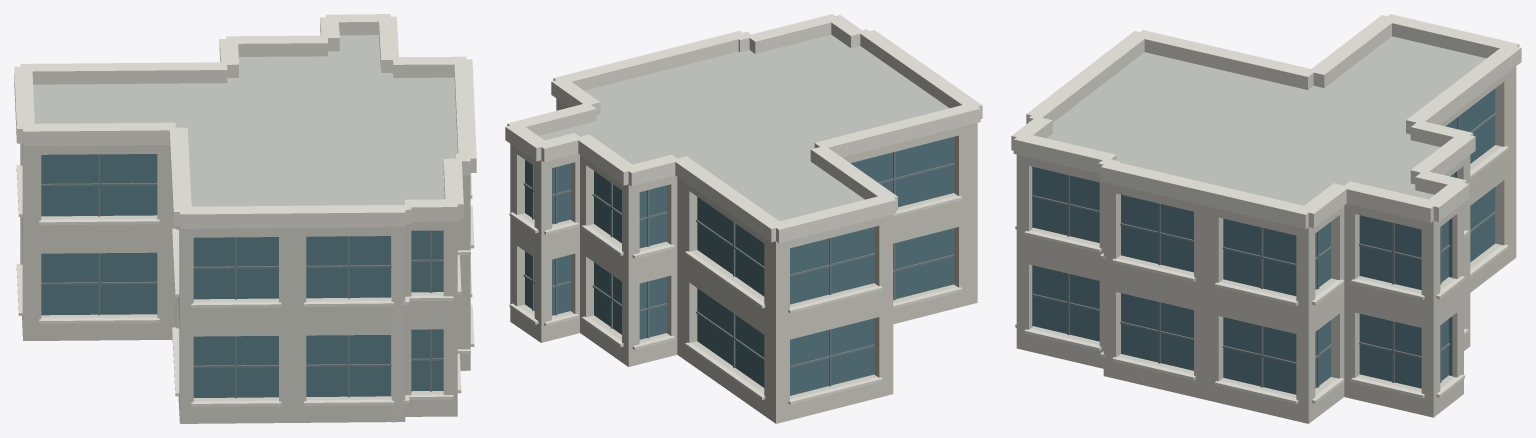
The picture shows the model from 3 angles, left to right: view 1: azimuth 30°, elevation 25°; view 2: azimuth 150°, elevation 25°; view 3: azimuth 270°, elevation 25°; orthographic projection. The views are drawn at different scales.
Visible parts, largest first — view 1: wall, roof, glass, trim, metal; view 2: wall, roof, glass, trim, metal; view 3: wall, roof, glass, trim, metal.
Boxes of the visible parts, x1,y1,x2,y2 form: wall: (20, 143, 470, 423); roof: (33, 35, 457, 206); glass: (41, 154, 443, 397); trim: (14, 14, 476, 406); metal: (41, 154, 443, 398); wall: (510, 98, 977, 423); roof: (539, 34, 949, 221); glass: (525, 137, 953, 395); trim: (505, 14, 982, 404); metal: (523, 151, 954, 386); wall: (1016, 66, 1516, 423); roof: (1046, 36, 1486, 205); glass: (1032, 88, 1495, 394); trim: (1011, 14, 1521, 404); metal: (1032, 112, 1496, 387).
Bounding box in the file's own units: 13.13 × 6.44 × 14.09.
